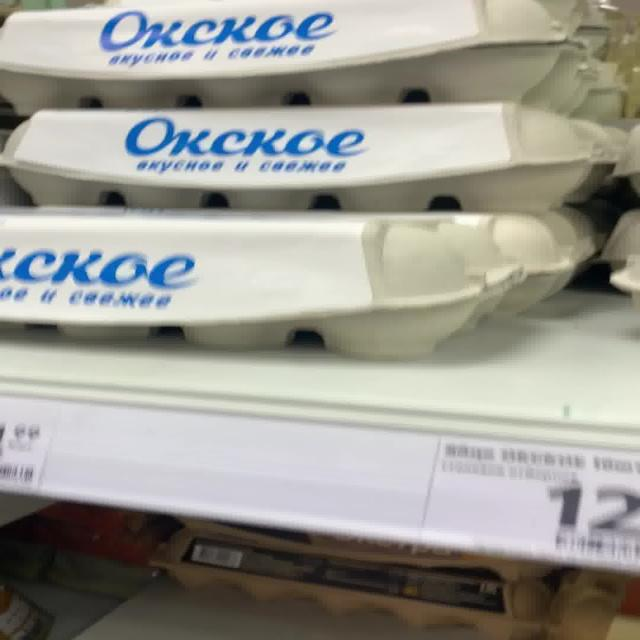egg box: (0, 204, 510, 349), (0, 92, 590, 213), (9, 0, 578, 113)
